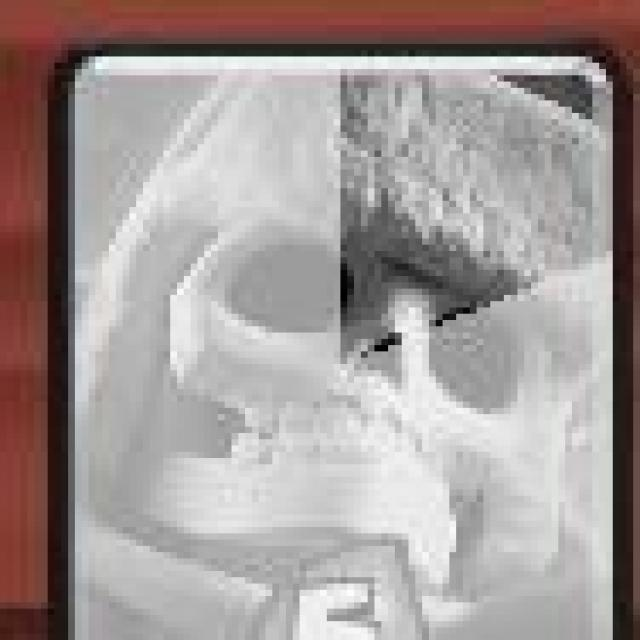Giant_Skeleton: (49, 42, 634, 640)
